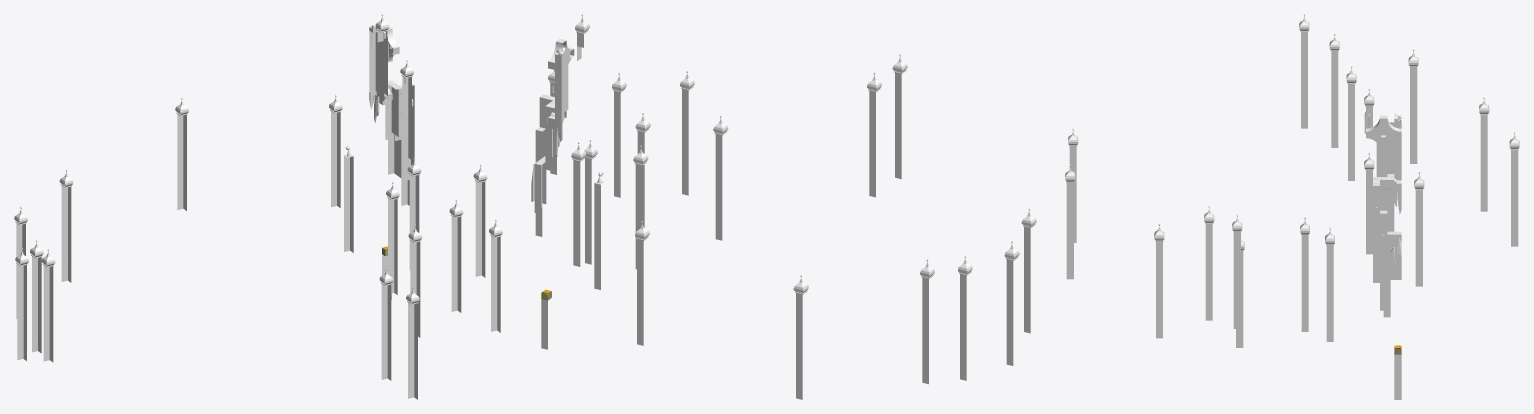
File: CHUNK_DIVE.fbx
3 renders of one model, left to right at view 1: azimuth 30°, elevation 25°; view 2: azimuth 150°, elevation 25°; view 3: azimuth 270°, elevation 25°, orthographic. The views are drawn at different scales.
Visible parts, largest first — view 1: _Combined_Vis_PCPORTChild_Rebuild_FoggedNoAO, _Combined_VisChild_Rebuild_Fogged; view 2: _Combined_Vis_PCPORTChild_Rebuild_FoggedNoAO, _Combined_VisChild_Rebuild_Fogged, _Combined_VisChild_Rebuild_SpecialFogged (×2); view 3: _Combined_Vis_PCPORTChild_Rebuild_FoggedNoAO, _Combined_VisChild_Rebuild_Fogged, _Combined_VisChild_Rebuild_SpecialFogged (×3).
Boxes of the visible parts, x1,y1,x2,y2 form: _Combined_Vis_PCPORTChild_Rebuild_FoggedNoAO: (14,98,502,399); _Combined_VisChild_Rebuild_Fogged: (329,14,421,294); _Combined_Vis_PCPORTChild_Rebuild_FoggedNoAO: (612,54,1036,399); _Combined_VisChild_Rebuild_Fogged: (531,14,648,289); _Combined_VisChild_Rebuild_SpecialFogged (×2): (535,94,549,236); _Combined_Vis_PCPORTChild_Rebuild_FoggedNoAO: (1065,14,1519,347); _Combined_VisChild_Rebuild_Fogged: (1300,89,1424,341); _Combined_VisChild_Rebuild_SpecialFogged (×3): (1366,115,1401,310).
Bounding box in the file's own units: 67.8 × 46.5 × 63.65.
Materials: 4 (4 with a texture image).
